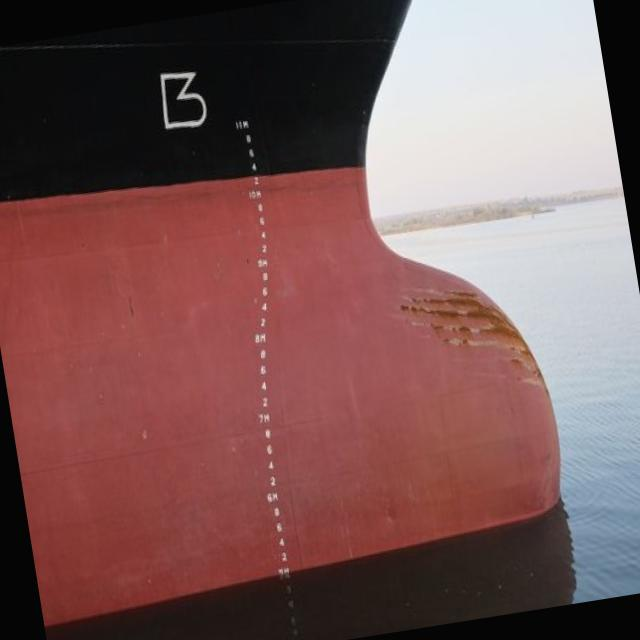Ship Draft Marks: (258, 214, 268, 227), (260, 230, 269, 242), (259, 332, 268, 344), (261, 286, 269, 298), (258, 364, 266, 376), (259, 348, 267, 359), (264, 428, 272, 439), (276, 522, 284, 533), (256, 258, 263, 270), (262, 258, 269, 270), (253, 332, 260, 344), (242, 119, 250, 129), (280, 552, 288, 562), (261, 243, 268, 254), (260, 316, 266, 328), (262, 396, 268, 408), (258, 412, 264, 424), (245, 134, 252, 144), (248, 148, 255, 158), (271, 492, 278, 502), (279, 537, 286, 547), (251, 189, 257, 200), (270, 476, 276, 487), (263, 413, 270, 422), (251, 162, 257, 172), (256, 190, 262, 200), (258, 202, 264, 212), (262, 272, 268, 282), (266, 445, 272, 455), (268, 460, 274, 470), (266, 493, 272, 503), (274, 507, 280, 517), (262, 303, 268, 312), (235, 120, 240, 130), (253, 177, 260, 184), (248, 190, 252, 200), (262, 380, 266, 390), (240, 120, 242, 129)
